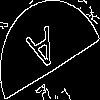A: (25, 25, 63, 82)
